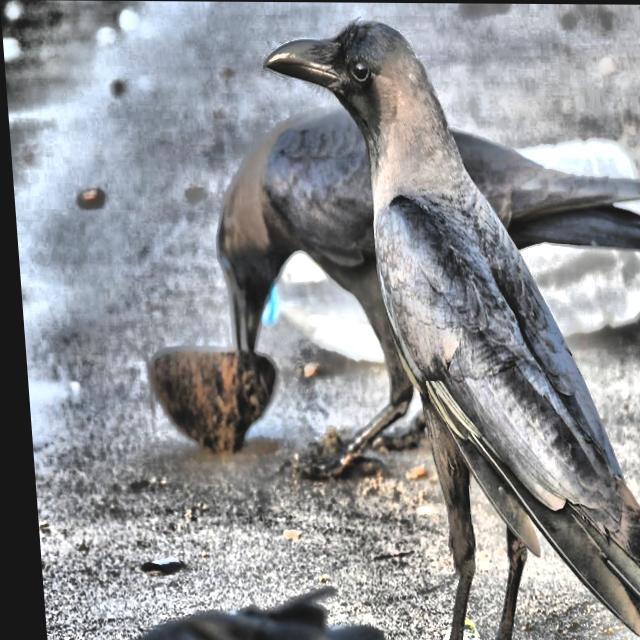crow: (183, 13, 640, 640)
